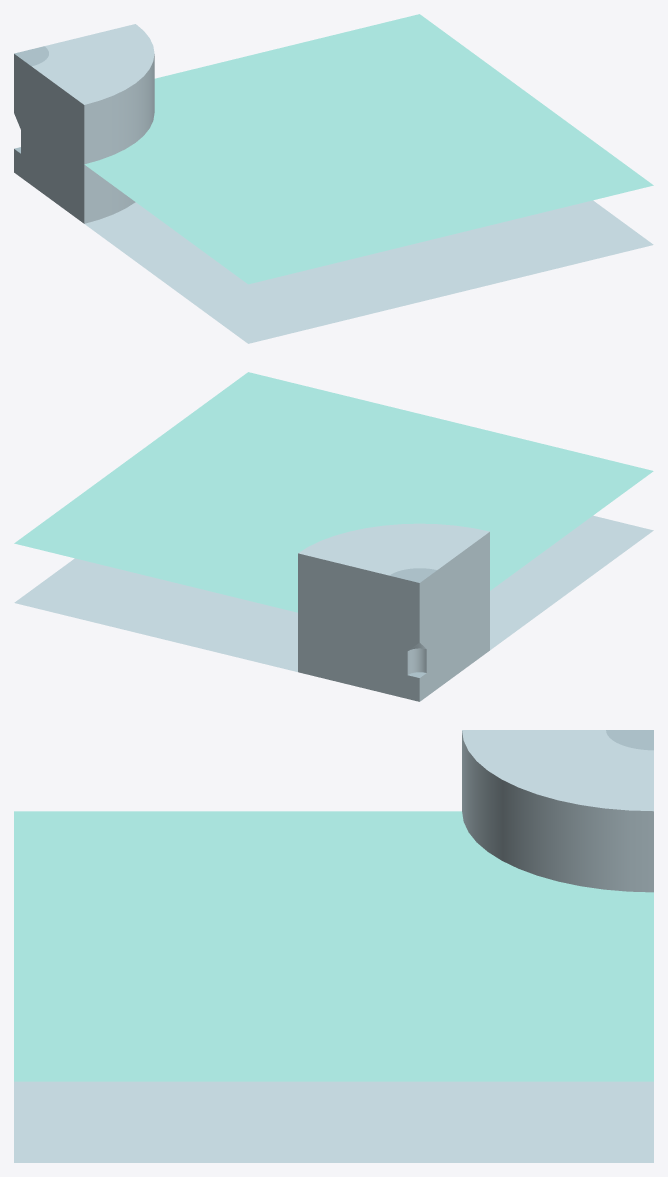
The model's file is fountainCornerInner.fbx.
The picture shows the model from 3 angles, top to bottom: view 1: azimuth 30°, elevation 25°; view 2: azimuth 150°, elevation 25°; view 3: azimuth 270°, elevation 25°; orthographic projection. The views are drawn at different scales.
Visible parts, largest first — view 1: fountainCornerInner.001, fountainCornerInner; view 2: fountainCornerInner.001, fountainCornerInner; view 3: fountainCornerInner.001, fountainCornerInner.
Boxes of the visible parts, x1,y1,x2,y2 form: fountainCornerInner.001: (84,14,653,284); fountainCornerInner: (14,24,653,343); fountainCornerInner.001: (14,372,653,612); fountainCornerInner: (14,515,653,701); fountainCornerInner.001: (14,811,653,1081); fountainCornerInner: (14,730,653,1162).
Bounding box in the file's own units: 100 × 28 × 100.
